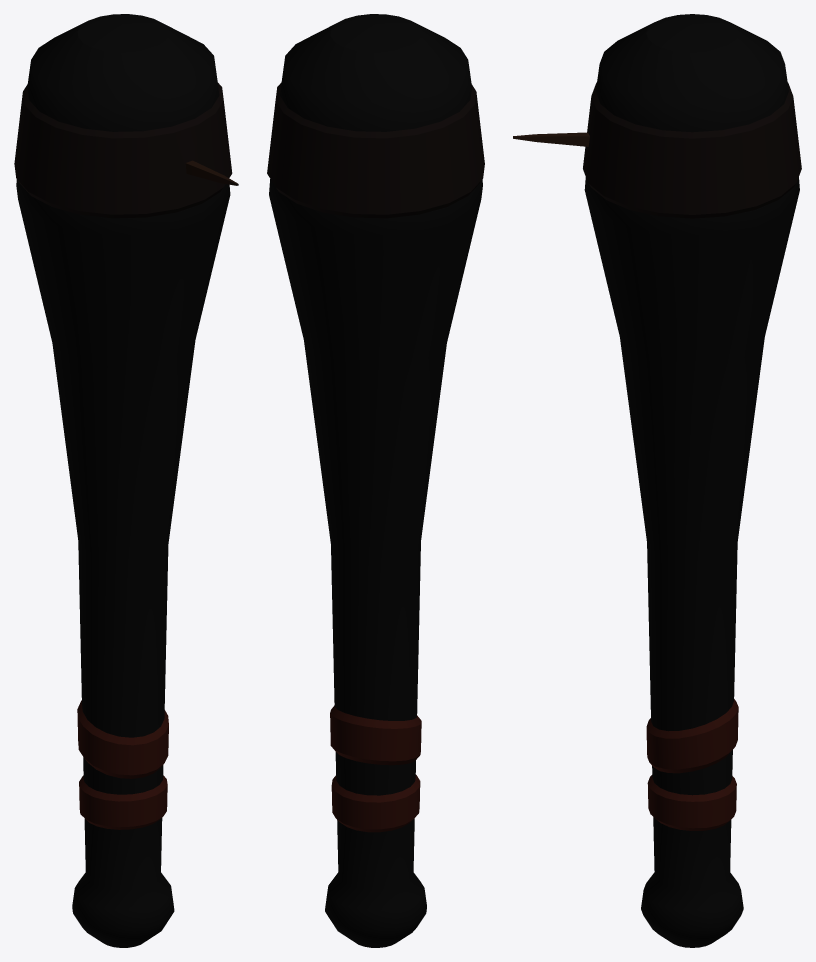
The model's file is Club.fbx.
3 renders of one model, left to right at view 1: azimuth 30°, elevation 25°; view 2: azimuth 150°, elevation 25°; view 3: azimuth 270°, elevation 25°, orthographic.
Visible parts, largest first — view 1: pCylinder1; view 2: pCylinder1; view 3: pCylinder1.
Boxes of the visible parts, x1,y1,x2,y2 form: pCylinder1: (14, 14, 238, 947); pCylinder1: (267, 14, 484, 947); pCylinder1: (513, 14, 801, 947).
Bounding box in the file's own units: 4.76 × 21.92 × 6.28.
